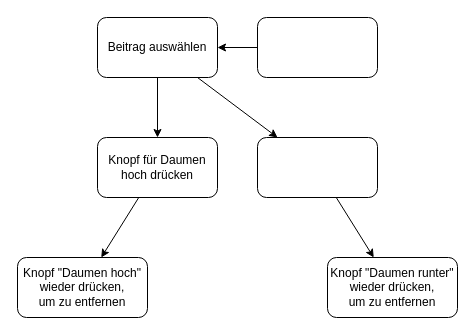
The diagram is 475 pixels wide and 335 high, and some of its shapes have lost their labels. The shapes that lost their labels are listed below. From the top down, each one's centre as x and y in pixels, then its label:
point 317,47: Mit Link zum Beitrag
point 317,167: Knopf für Daumen runter drücken
